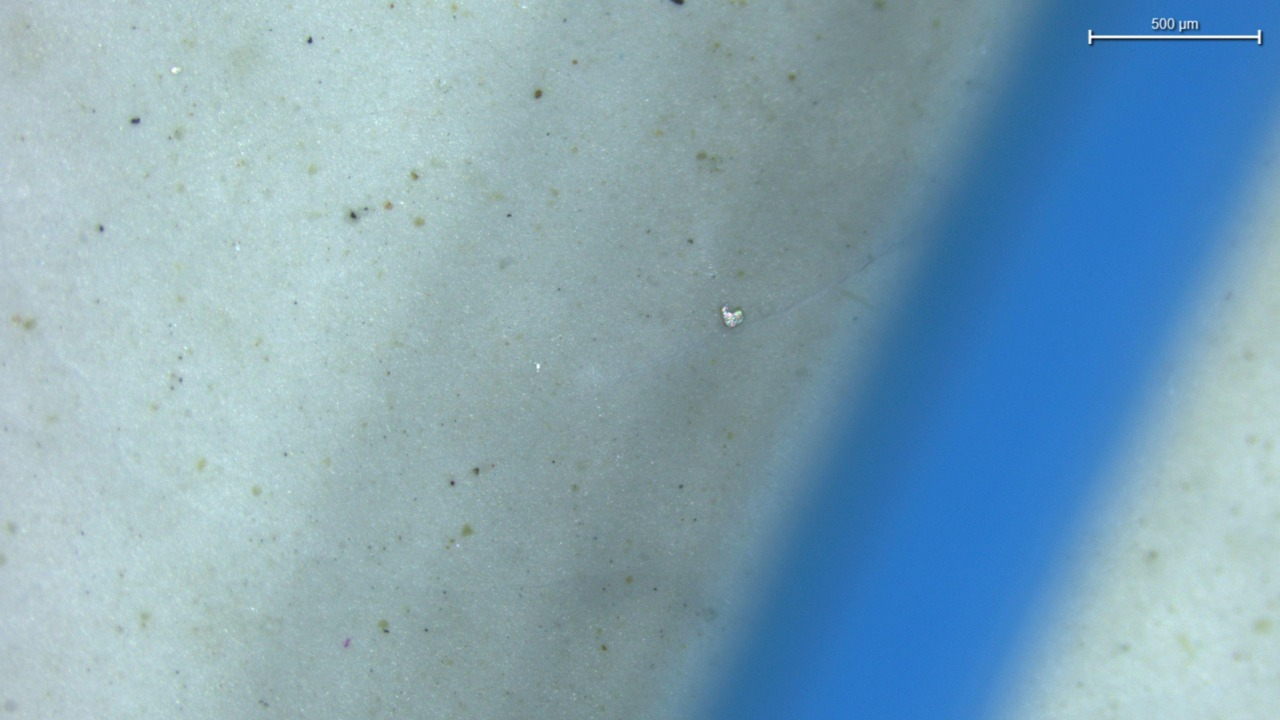microplastic_fragment: (721, 304, 743, 328)
